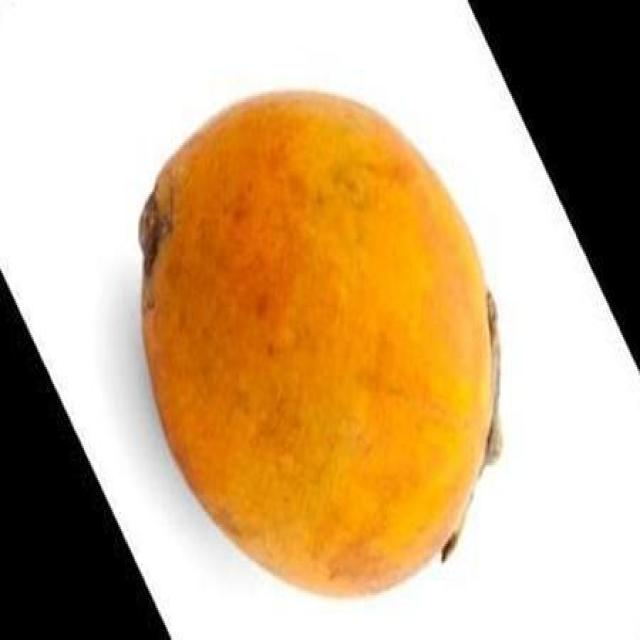good: (137, 92, 499, 602)
